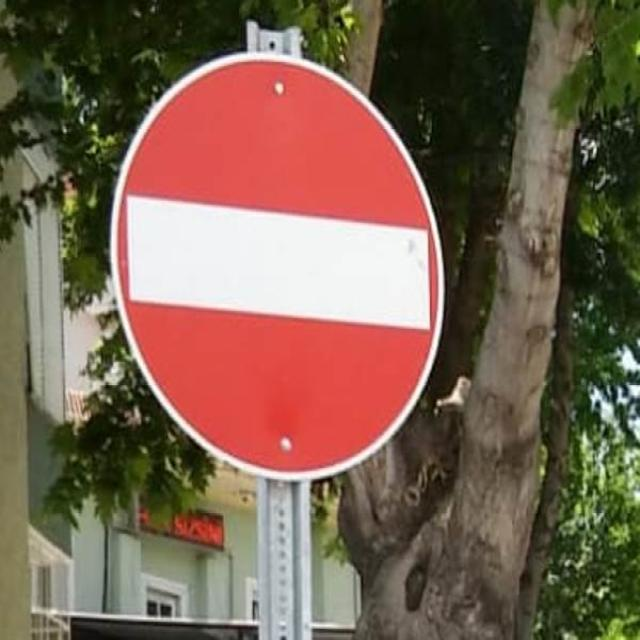Sens-Interdit: (106, 51, 447, 486)
